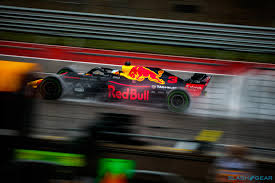FormulaOneCar: (23, 49, 216, 116)
